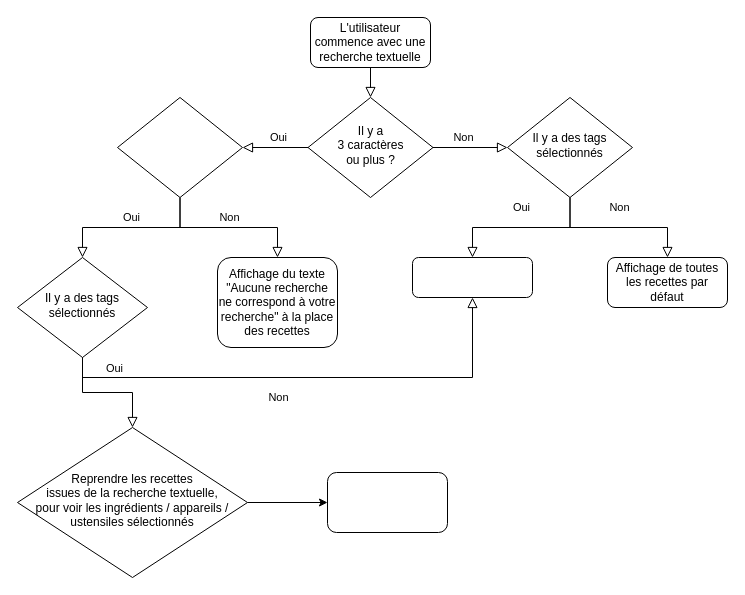
This 745x595 diagram has some shape labels left out. The shapes that lost their labels are listed below. From the top down, each one's centre as x and y in pixels, then its label:
At pixel 179 147: "Des recettes correspondent à la recherche".
At pixel 472 277: "Tri des recettes avec les tags".
At pixel 387 502: "Affichage des recettes basées sur la recherche textuelle et par tags".
